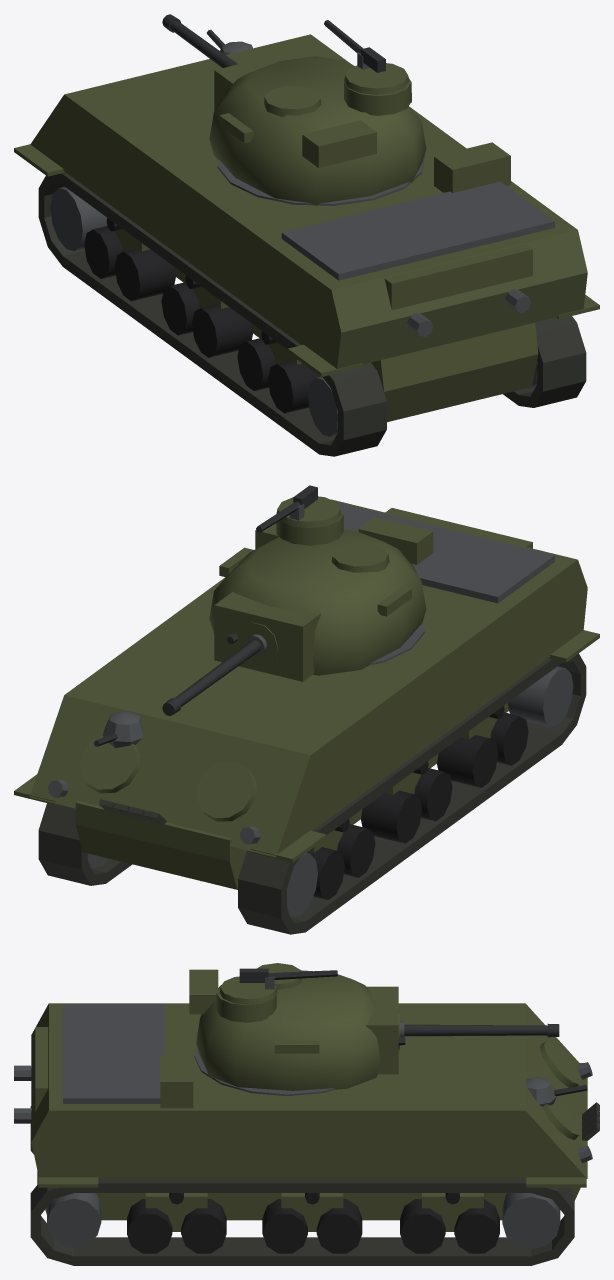
Rendered from sherman.glb.
The picture shows the model from 3 angles, top to bottom: view 1: azimuth 30°, elevation 25°; view 2: azimuth 150°, elevation 25°; view 3: azimuth 270°, elevation 25°; orthographic projection. The views are drawn at different scales.
Parts seen in each view (by area): view 1: sherman, turret, hatch, barrel; view 2: sherman, turret, barrel, hatch; view 3: sherman, turret, barrel, hatch.
Part boxes in pixels (x1,y1,x2,y2): sherman: [14, 29, 599, 456]; turret: [209, 20, 426, 205]; hatch: [344, 63, 409, 94]; barrel: [162, 14, 237, 67]; sherman: [14, 499, 599, 934]; turret: [209, 485, 433, 681]; barrel: [162, 634, 267, 715]; hatch: [276, 496, 341, 528]; sherman: [14, 1003, 599, 1265]; turret: [189, 963, 405, 1090]; barrel: [399, 1021, 559, 1037]; hatch: [219, 976, 277, 1004].
Size of the model in its own units: 2.96 by 2.93 by 6.05.
